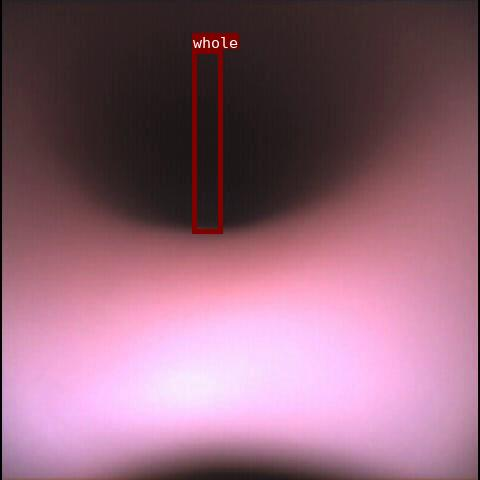whole: (192, 49, 222, 233)
